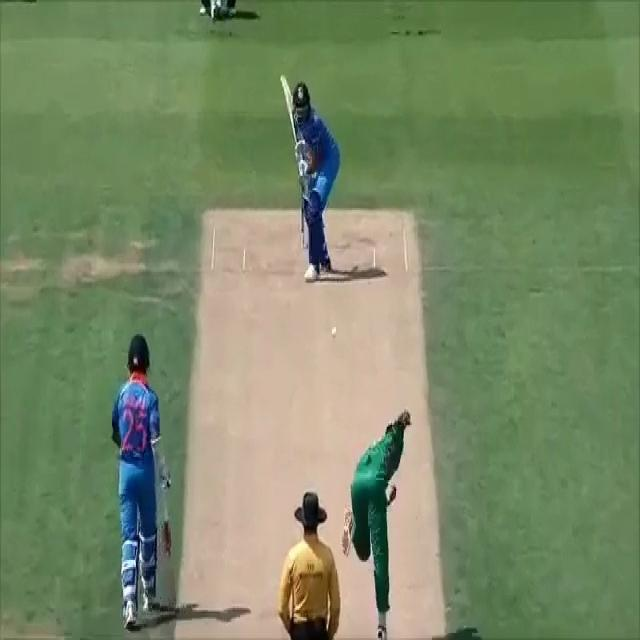ball: (331, 322, 338, 342)
